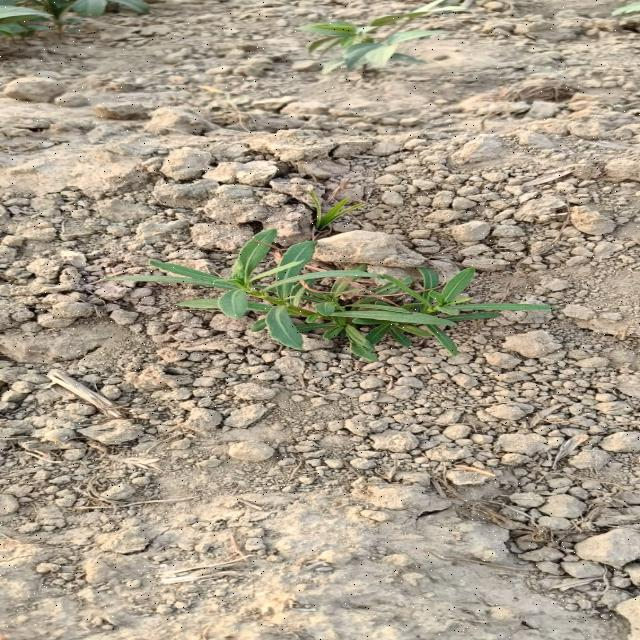plant: (115, 229, 544, 359), (307, 185, 364, 227)
